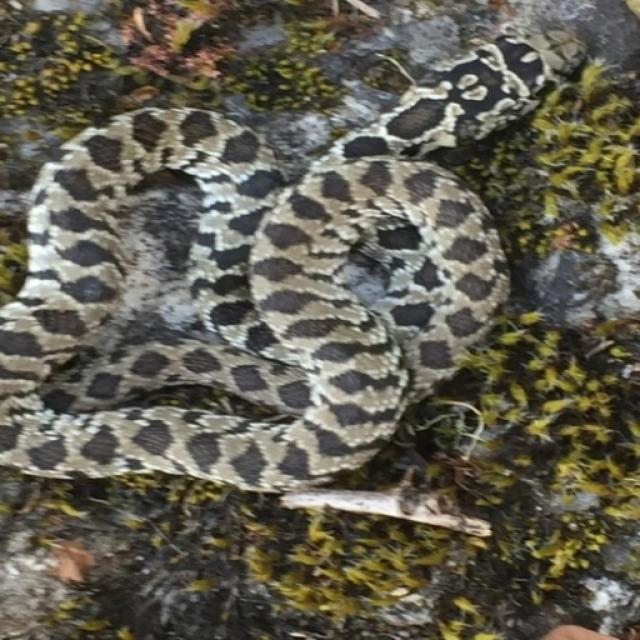snake: (0, 30, 581, 529)
